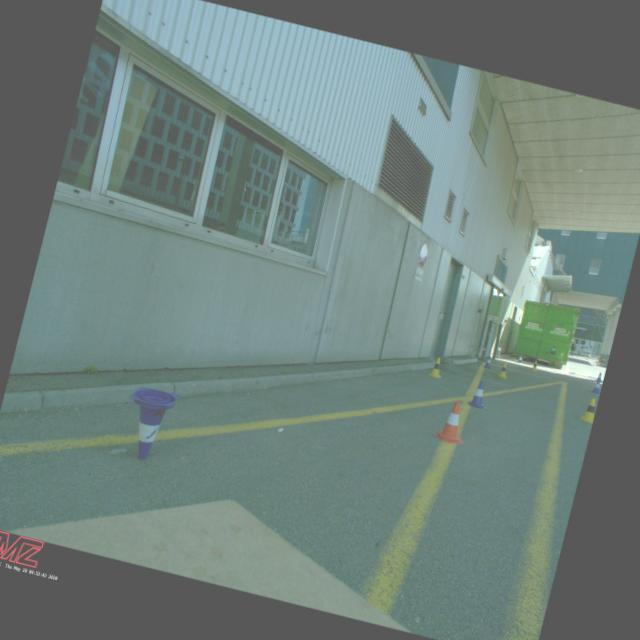blue_cone: (116, 381, 178, 465), (466, 379, 491, 410), (590, 379, 602, 394), (484, 355, 493, 369), (594, 371, 603, 382), (516, 354, 522, 363)
orange_cone: (432, 398, 473, 447)
yellow_cone: (578, 396, 598, 424), (428, 356, 444, 378), (497, 362, 510, 378), (530, 359, 538, 372)
